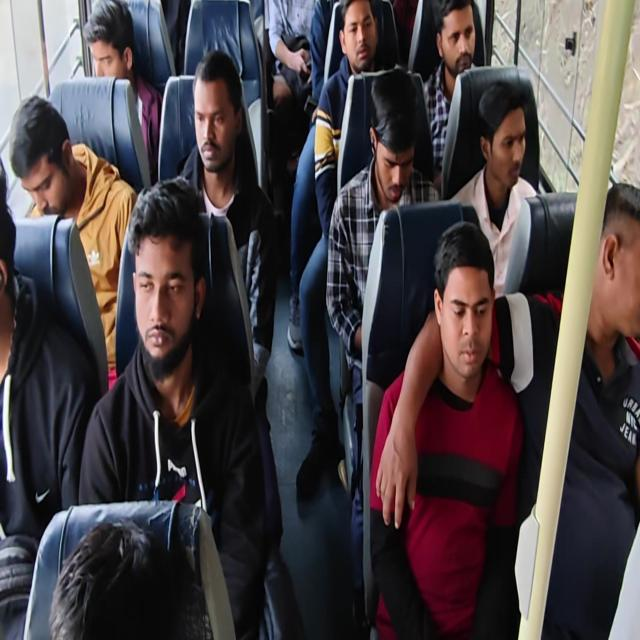person: (1, 0, 638, 638), (386, 181, 639, 638), (78, 176, 266, 638), (368, 220, 524, 638), (325, 68, 440, 630), (519, 181, 639, 638), (294, 1, 392, 498), (0, 168, 99, 638), (9, 94, 138, 390), (176, 49, 277, 398), (48, 517, 214, 639), (448, 80, 538, 299), (82, 0, 162, 182), (422, 0, 477, 187), (266, 0, 317, 110)
